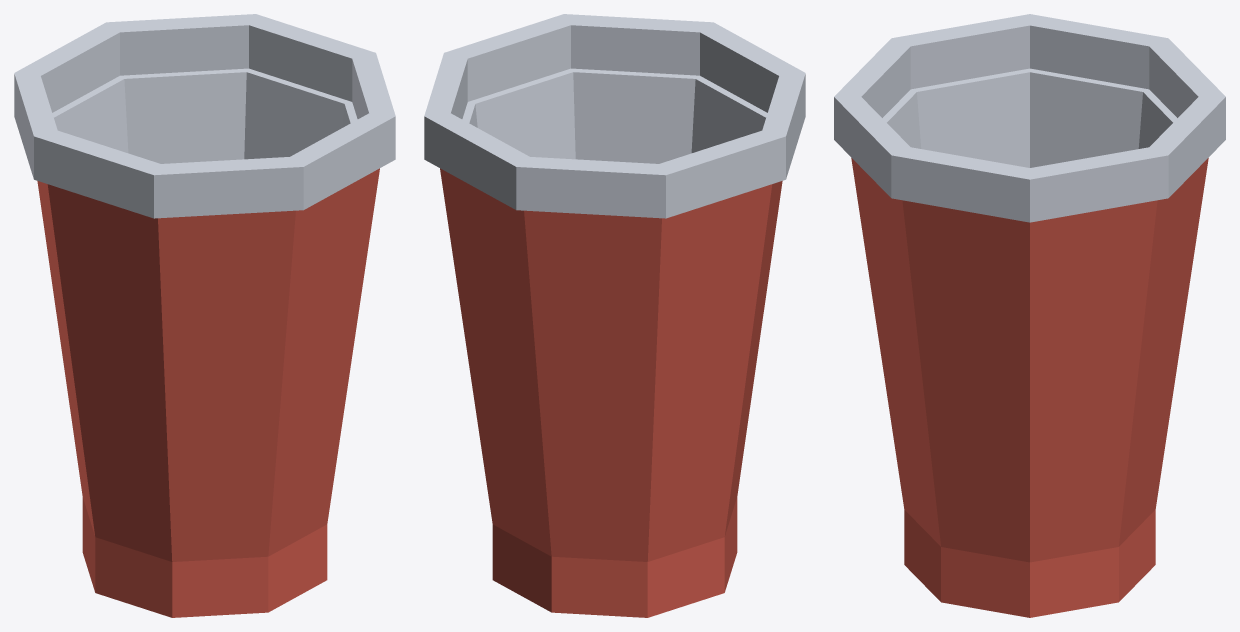
Rendered from cup.fbx.
The picture shows the model from 3 angles, left to right: view 1: azimuth 30°, elevation 25°; view 2: azimuth 150°, elevation 25°; view 3: azimuth 270°, elevation 25°; orthographic projection.
Visible parts, largest first — view 1: Cup; view 2: Cup; view 3: Cup.
Part boxes in pixels (x1=…): Cup: x1=14, y1=14, x2=395, y2=617; Cup: x1=424, y1=14, x2=805, y2=617; Cup: x1=834, y1=14, x2=1225, y2=617.
Bounding box in the file's own units: 16.46 × 21.69 × 16.46.
